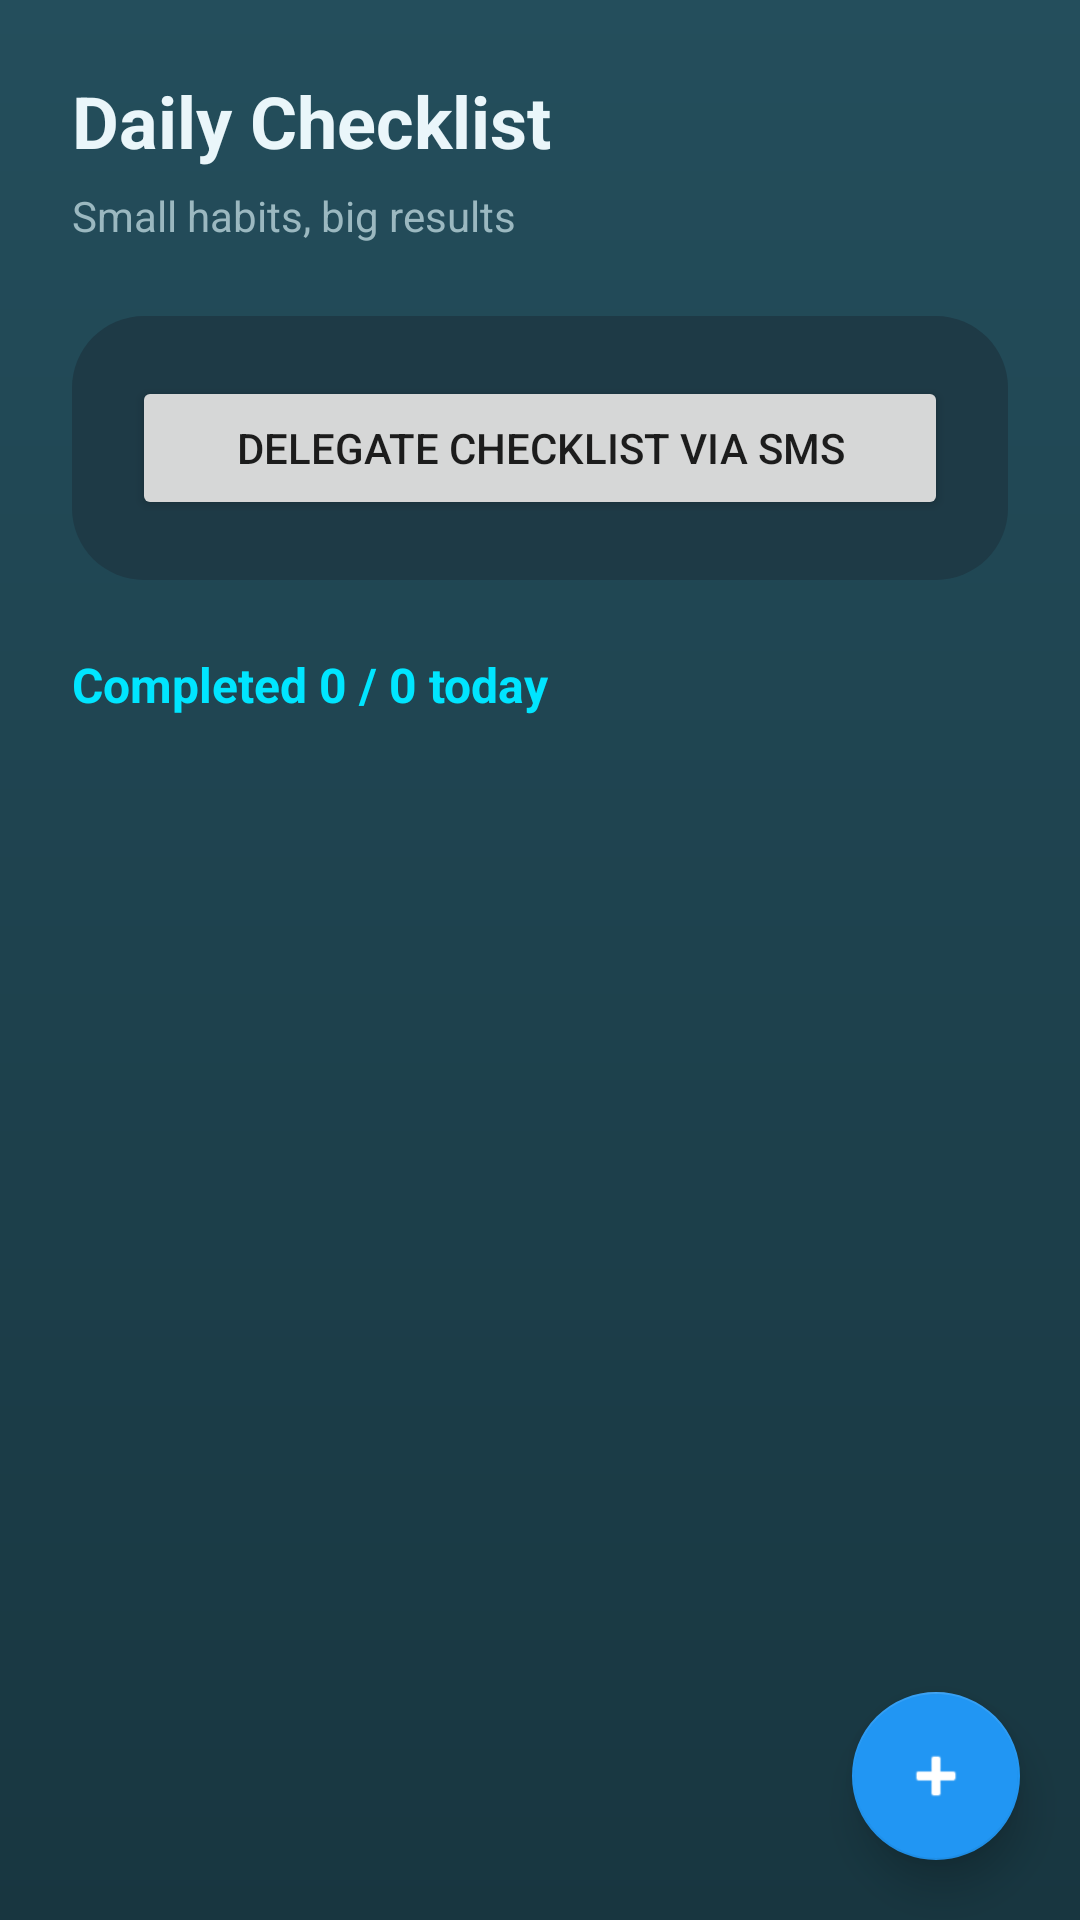

Point at icon controls on the screen. Image size 1080w x 1920h, points as (x,y).
Add Checklist Item: (936,1776)
